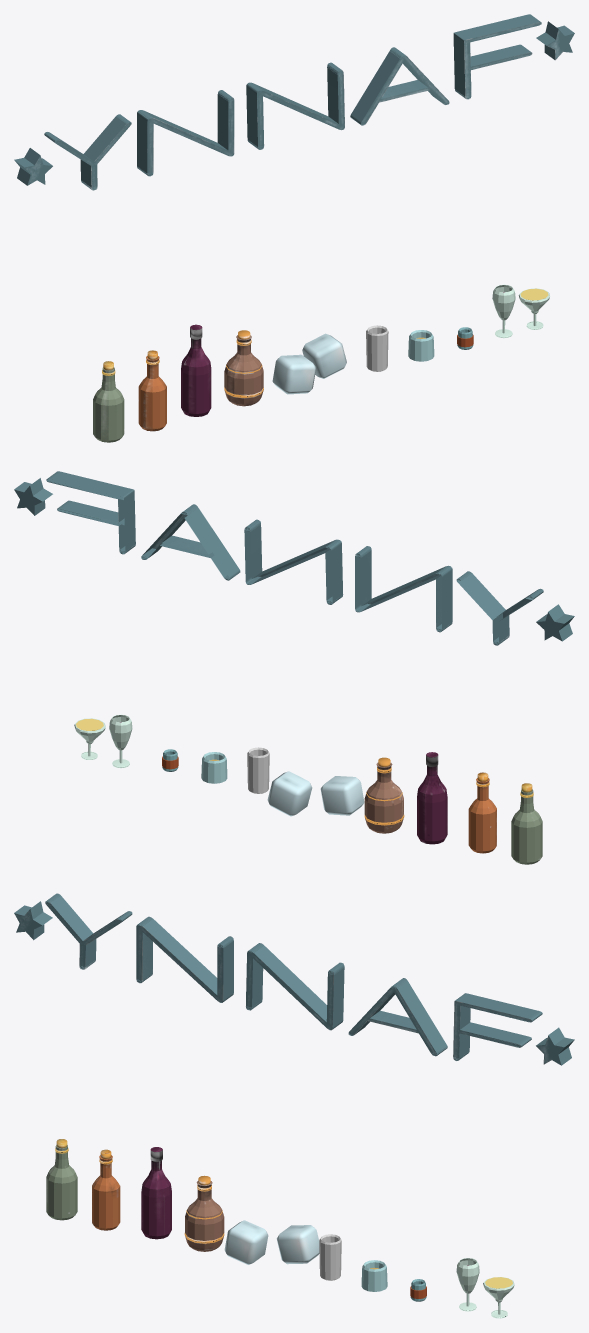
The model's file is animacion_ynnaf.glb.
The picture shows the model from 3 angles, top to bottom: view 1: azimuth 30°, elevation 25°; view 2: azimuth 150°, elevation 25°; view 3: azimuth 330°, elevation 25°; orthographic projection.
Visible parts, largest first — view 1: Licor_final__para_textura_, Ynnaf_para_texturq_; view 2: Licor_final__para_textura_, Ynnaf_para_texturq_; view 3: Ynnaf_para_texturq_, Licor_final__para_textura_.
Boxes of the visible parts, bbox=[...] form: Licor_final__para_textura_: bbox=[93, 284, 550, 442]; Ynnaf_para_texturq_: bbox=[14, 14, 574, 190]; Licor_final__para_textura_: bbox=[74, 714, 542, 864]; Ynnaf_para_texturq_: bbox=[14, 471, 574, 645]; Ynnaf_para_texturq_: bbox=[14, 893, 574, 1065]; Licor_final__para_textura_: bbox=[46, 1139, 514, 1318].
Bounding box in the file's own units: 1.6 × 0.8107 × 0.1907.
Materials: 15 (15 with a texture image).
